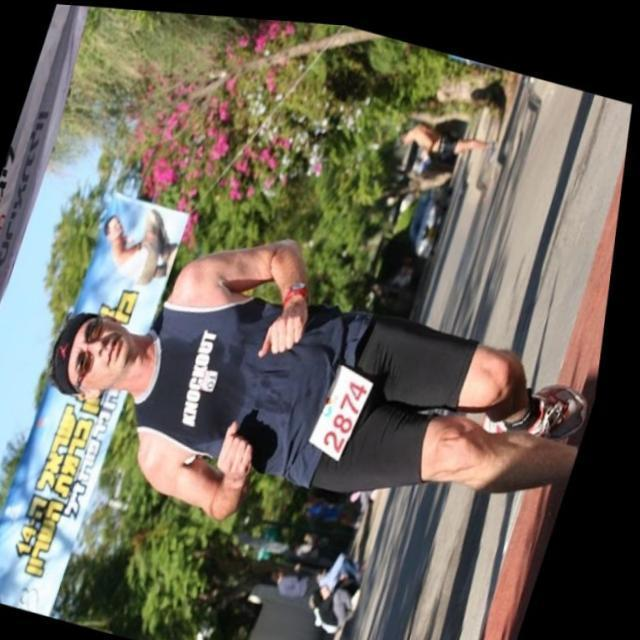dorsal: (312, 350, 389, 460)
